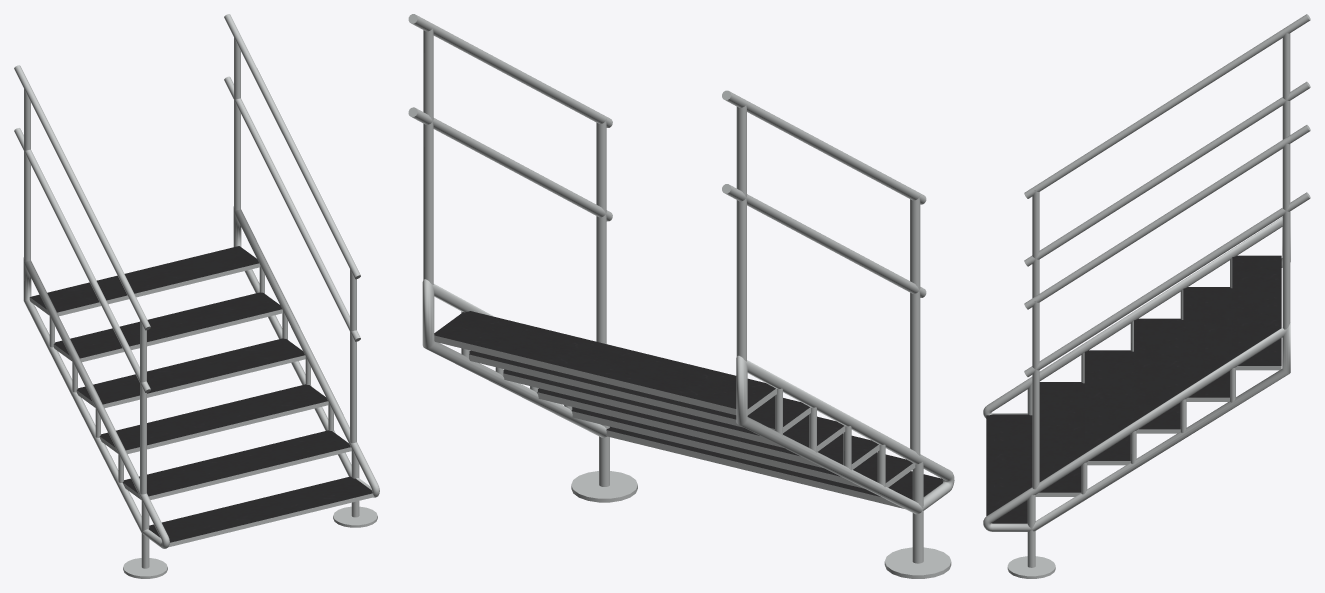
The model's file is StageBase01Stairs.FBX.
The picture shows the model from 3 angles, left to right: view 1: azimuth 30°, elevation 25°; view 2: azimuth 150°, elevation 25°; view 3: azimuth 270°, elevation 25°; orthographic projection. The views are drawn at different scales.
Parts seen in each view (by area): view 1: StageBase01Stairs; view 2: StageBase01Stairs; view 3: StageBase01Stairs.
Boxes of the visible parts, x1,y1,x2,y2 form: StageBase01Stairs: [14, 14, 379, 578]; StageBase01Stairs: [408, 14, 954, 578]; StageBase01Stairs: [983, 14, 1310, 578].
Bounding box in the file's own units: 125 × 198 × 133.
